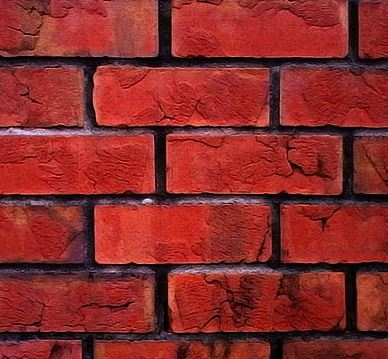brick: (164, 132, 343, 202), (93, 64, 271, 130), (168, 270, 351, 331), (96, 203, 273, 263), (1, 268, 159, 335), (1, 131, 159, 196), (169, 1, 352, 56), (1, 1, 160, 59), (277, 65, 388, 130), (278, 204, 388, 264), (1, 65, 90, 131), (1, 203, 87, 265), (91, 340, 271, 357), (279, 341, 388, 358), (1, 339, 83, 358)
